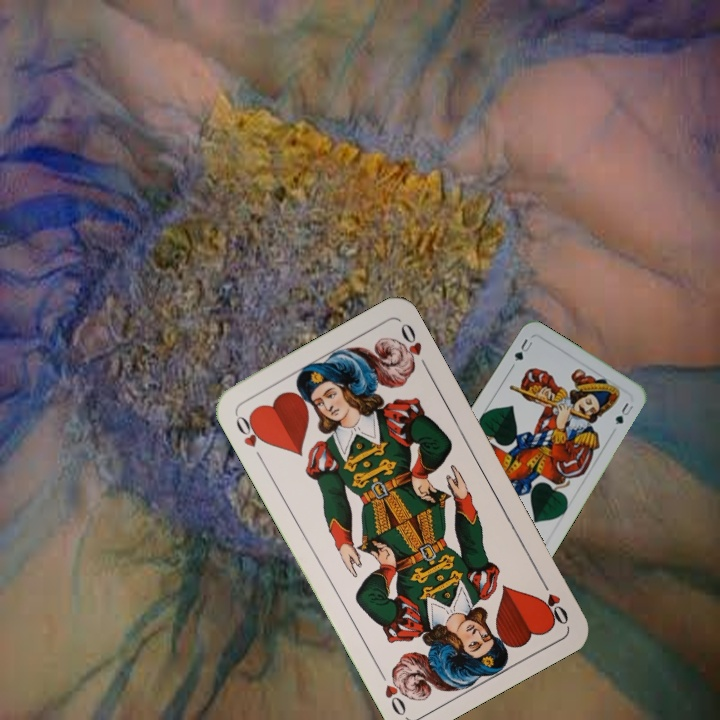GU: (510, 335, 535, 364)
HO: (231, 410, 269, 464), (535, 573, 571, 628)
